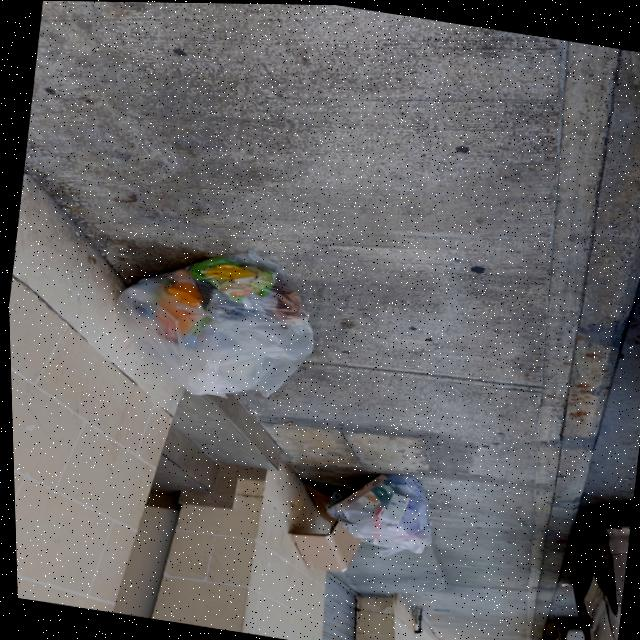Other: (279, 477, 367, 577)
Recycled Waste -Grey or Green Bag-: (105, 230, 326, 411), (316, 463, 438, 563)
